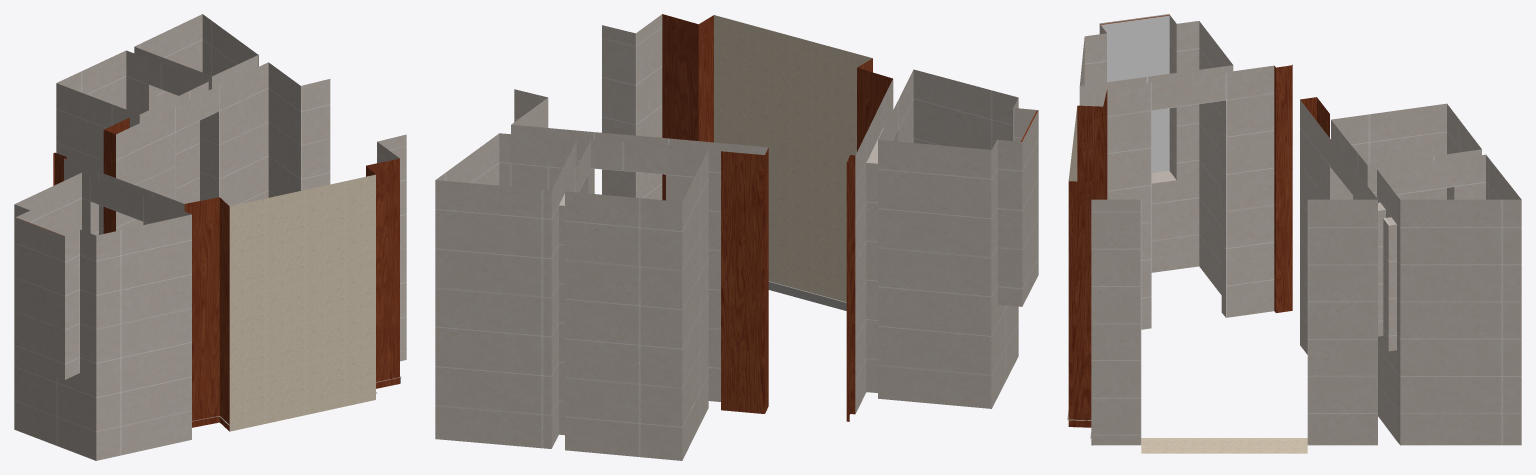
The model's file is Bathroom.fbx.
3 renders of one model, left to right at view 1: azimuth 30°, elevation 25°; view 2: azimuth 150°, elevation 25°; view 3: azimuth 270°, elevation 25°, orthographic. The views are drawn at different scales.
Parts seen in each view (by area): view 1: Bathroom; view 2: Bathroom; view 3: Bathroom.
Part boxes in pixels (box(x1,y1,x2,y2)): Bathroom: box(14, 14, 406, 460); Bathroom: box(435, 14, 1038, 460); Bathroom: box(1067, 14, 1521, 453).
Size of the model in its own units: 477 by 272 by 455.
